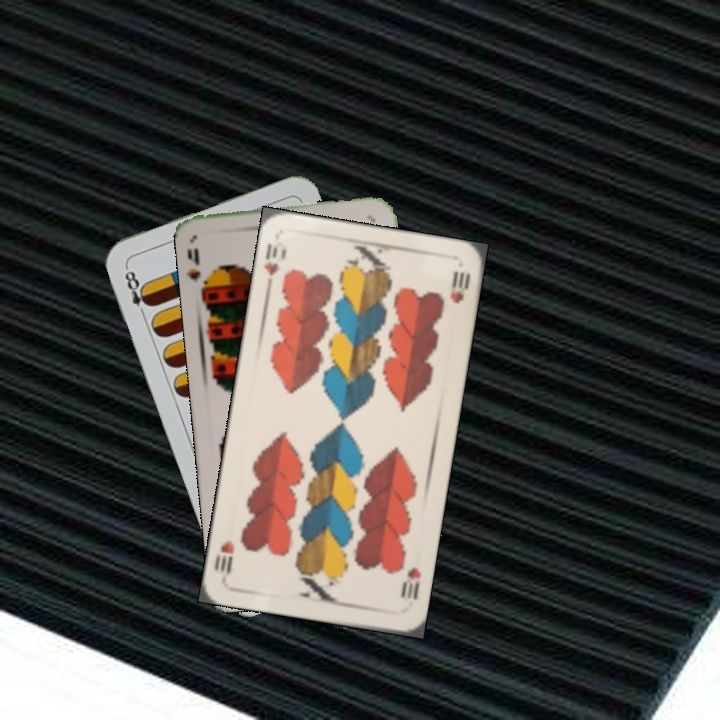E8: (120, 262, 154, 320)
H10: (260, 239, 289, 293), (396, 563, 424, 603)
S9: (183, 244, 213, 297)
